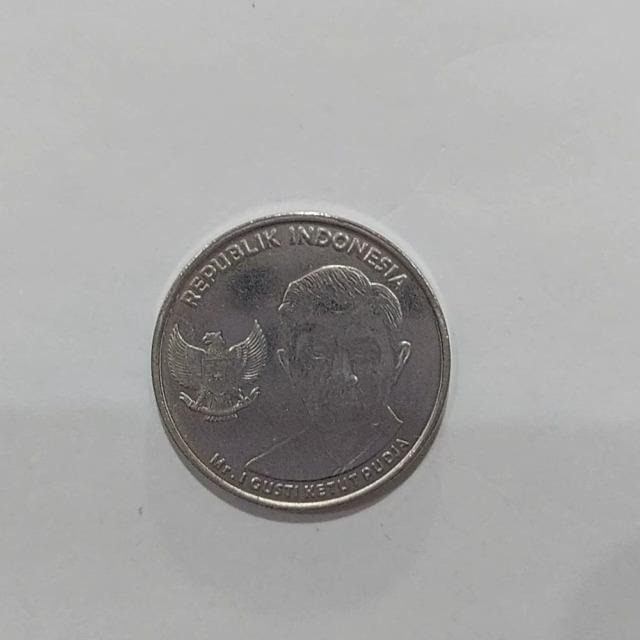Rp100: (149, 208, 452, 517), (162, 316, 271, 423)
